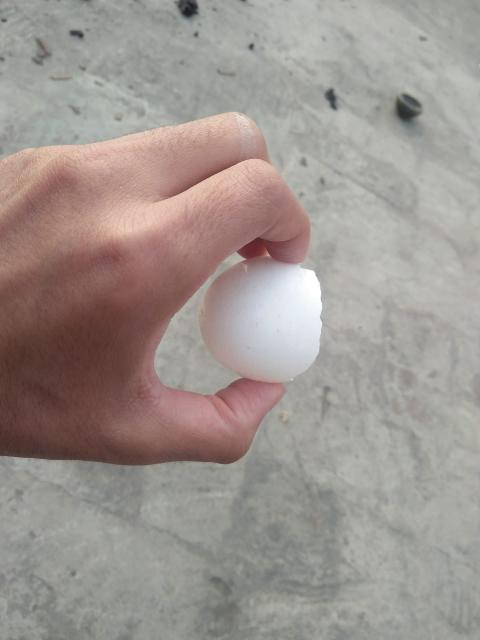Roto: (198, 255, 323, 384)
